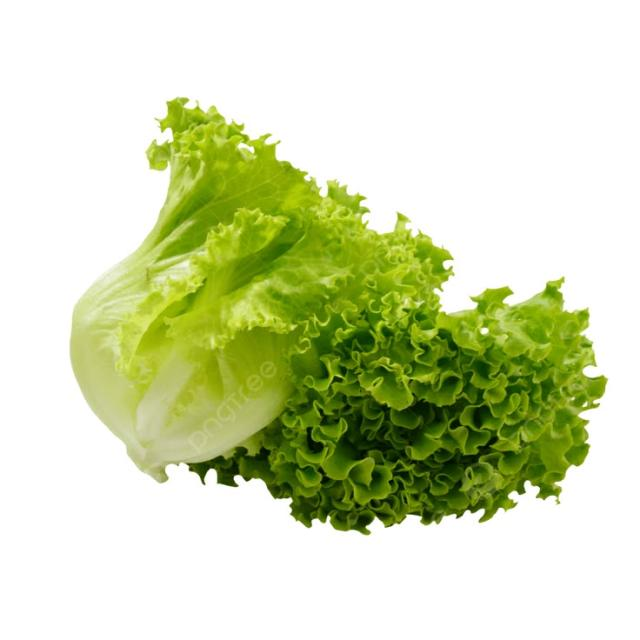lettuce: (72, 100, 605, 532)
